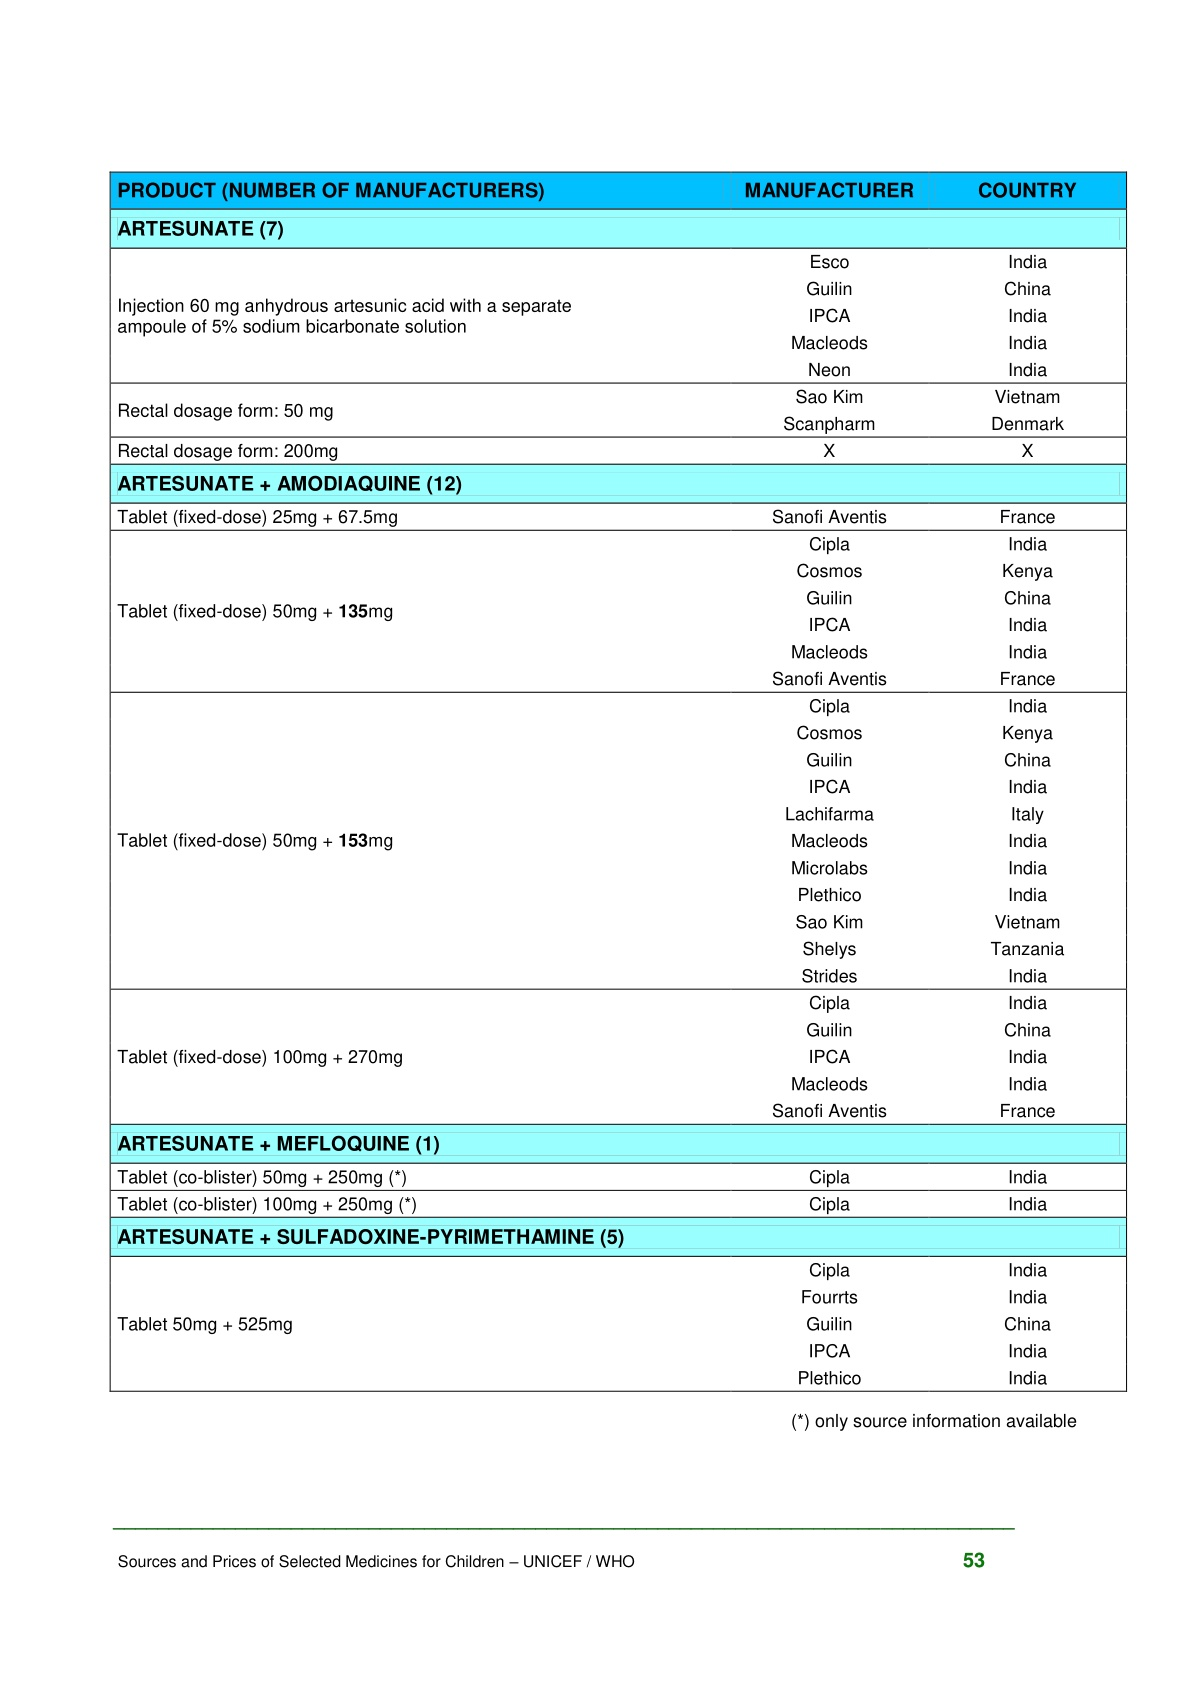partial_lined_merged_cells: (108, 167, 1128, 1395)
